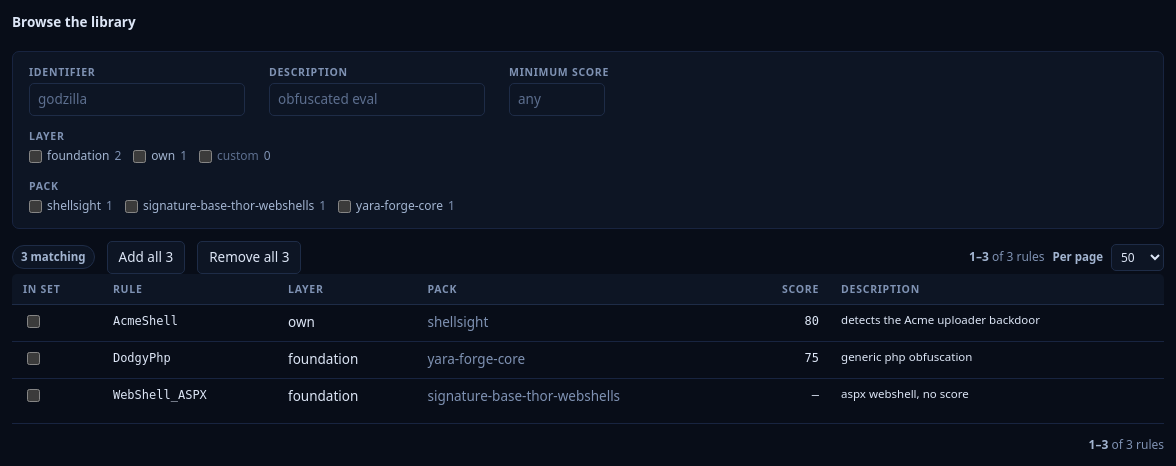
Test case: filtering by identifier narrows the list
Type "acme" into the field labelled "Identifier" at (137, 100), box top-left (29, 83), bottom-right (245, 116)
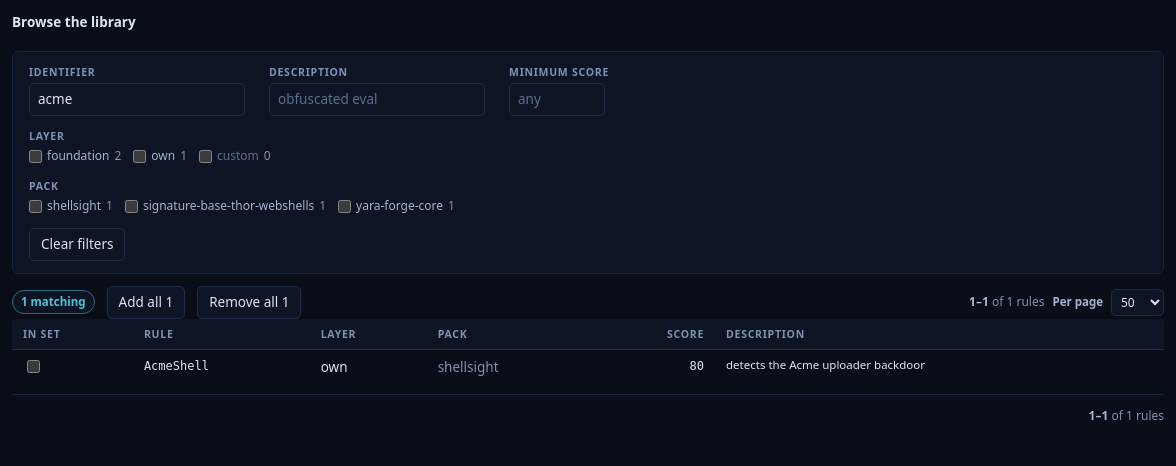
Expected: the text "AcmeShell" is shown, top-left (133, 349), bottom-right (310, 386)
Expected: the text "DodgyPhp" is gone
